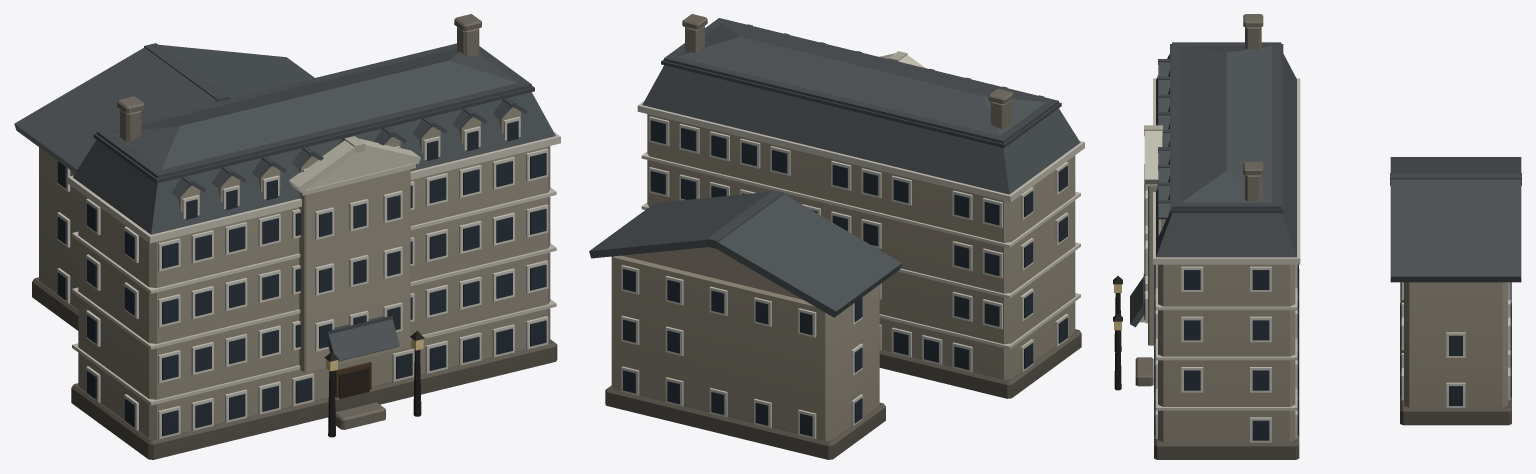
File: apartments.glb
3 renders of one model, left to right at view 1: azimuth 30°, elevation 25°; view 2: azimuth 150°, elevation 25°; view 3: azimuth 270°, elevation 25°, orthographic. The views are drawn at different scales.
Parts seen in each view (by area): view 1: apartments_model; view 2: apartments_model; view 3: apartments_model.
Part boxes in pixels (box(x1,y1,x2,y2)): apartments_model: box(14, 14, 560, 459); apartments_model: box(589, 14, 1084, 459); apartments_model: box(1113, 14, 1521, 459).
Size of the model in its own units: 1.92 by 1.42 by 1.85.
